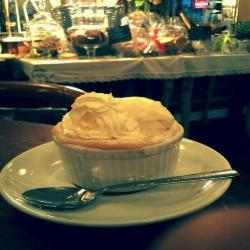apple_pie: (44, 85, 193, 196)
